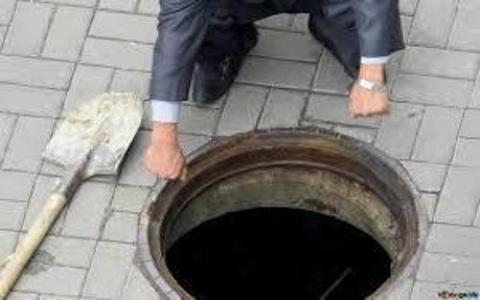open manhole: (112, 122, 431, 294)
